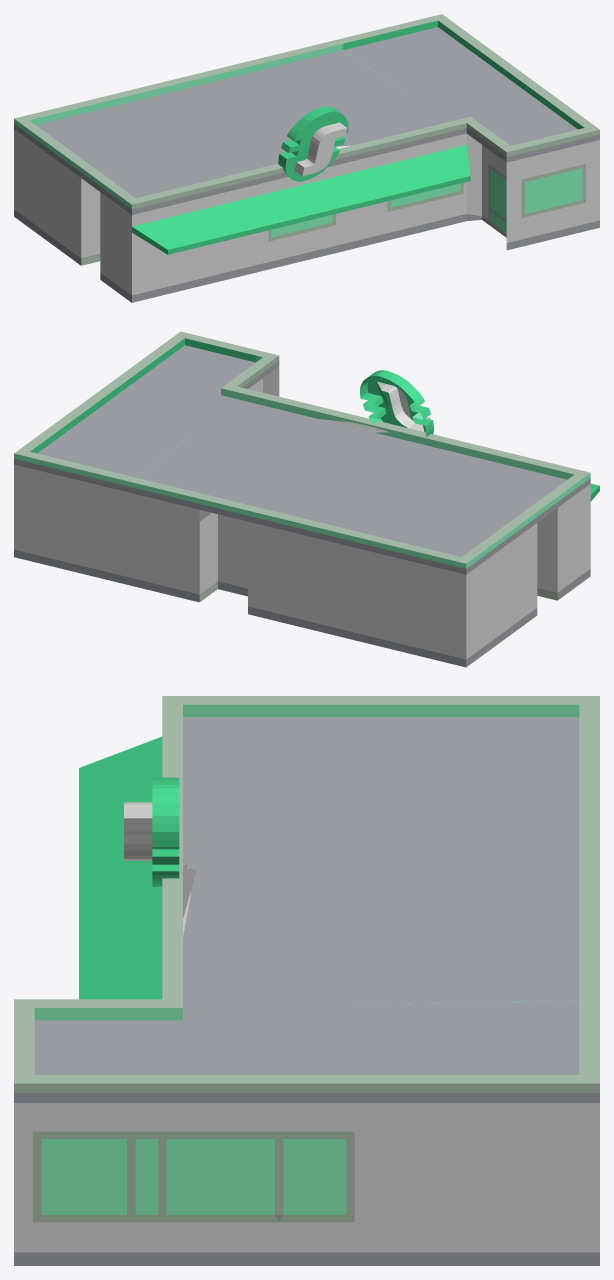
The model's file is Factory11.fbx.
3 views of the same model, one above another, from view 1: azimuth 30°, elevation 25°; view 2: azimuth 150°, elevation 25°; view 3: azimuth 270°, elevation 25° (orthographic). The views are drawn at different scales.
Parts seen in each view (by area): view 1: Cube.001; view 2: Cube.001; view 3: Cube.001.
Part boxes in pixels (x1,y1,x2,y2): Cube.001: [14, 14, 599, 302]; Cube.001: [14, 331, 599, 667]; Cube.001: [14, 696, 599, 1265].
Bounding box in the file's own units: 588 × 190 × 376.
